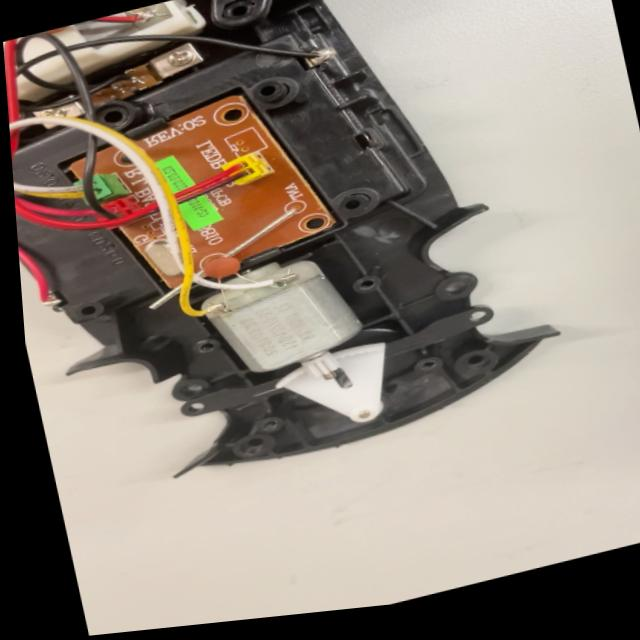motor: (200, 239, 376, 410)
